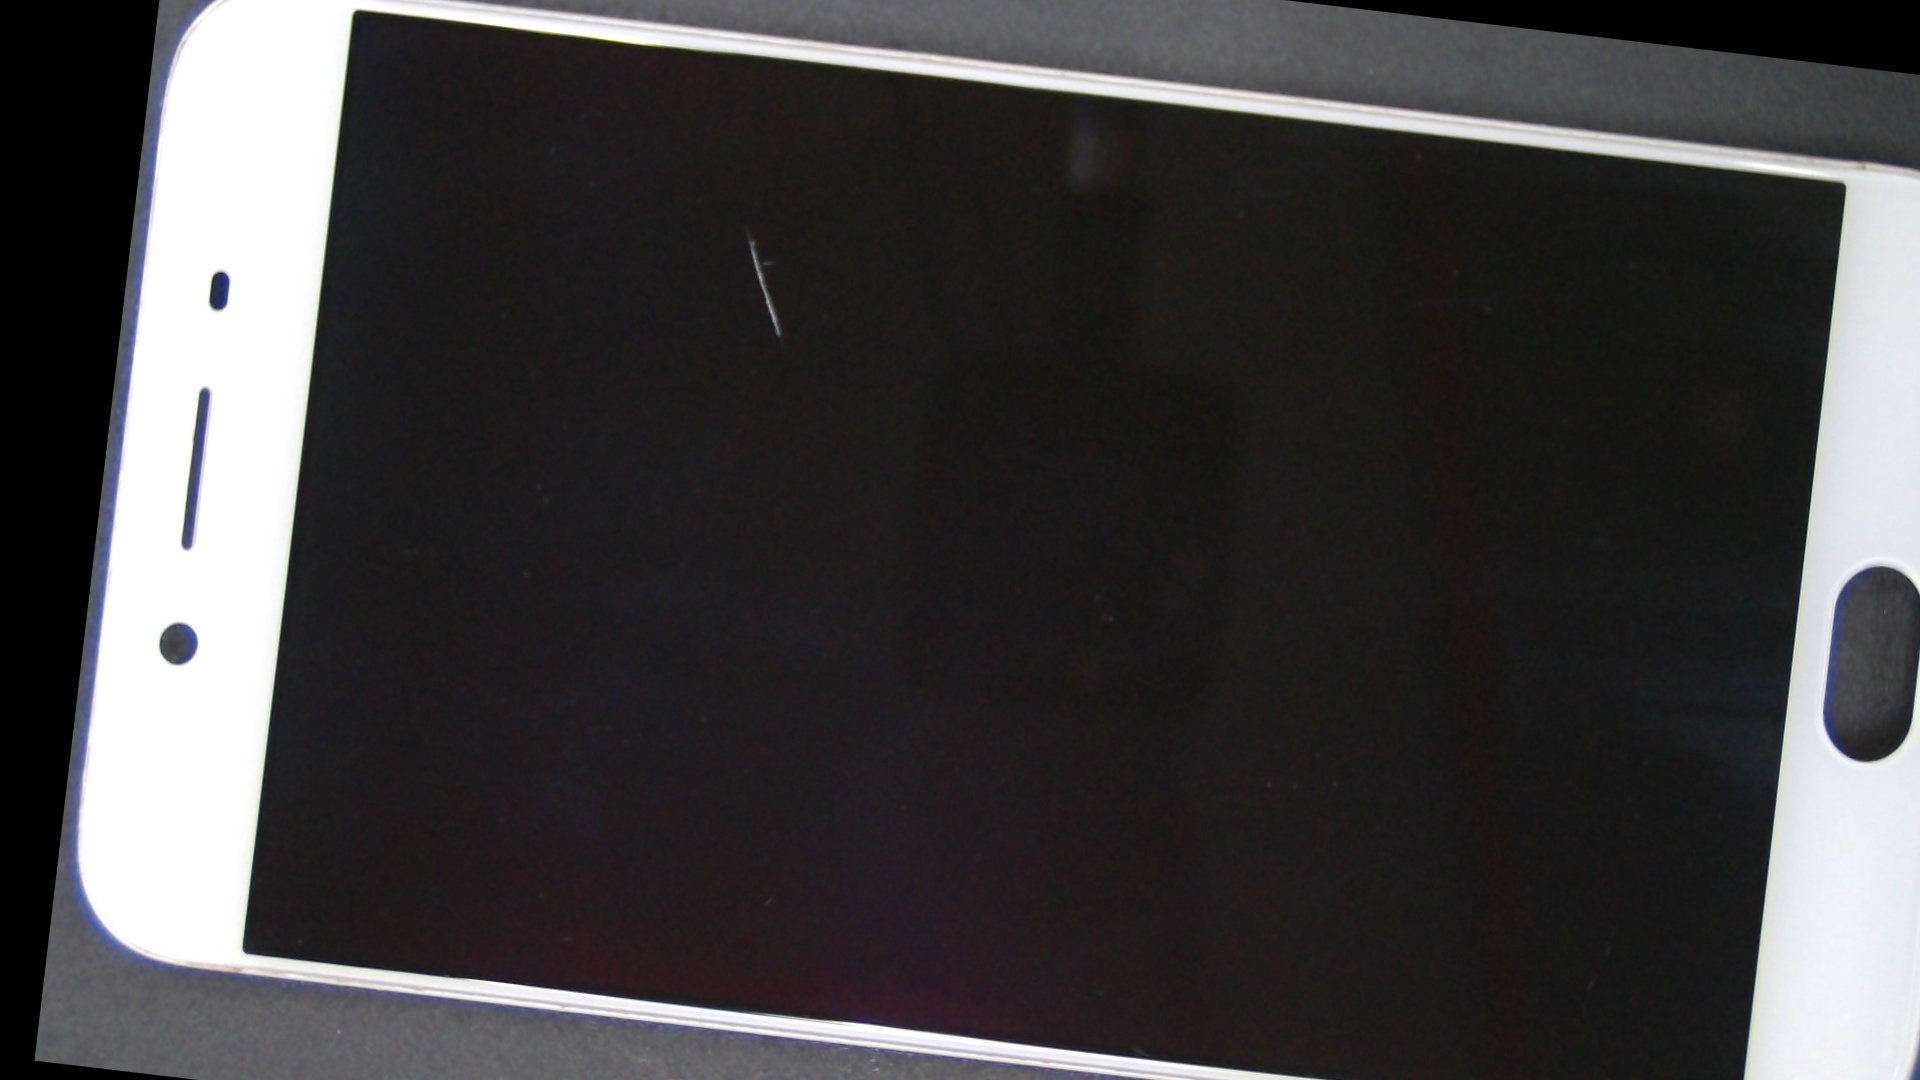oil: (426, 49, 1067, 410)
